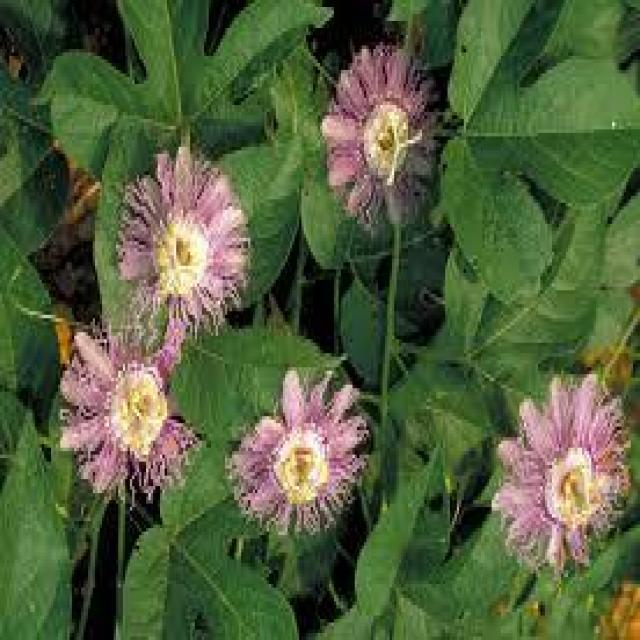organic waste: (110, 138, 266, 352), (54, 310, 214, 512), (215, 366, 382, 540), (490, 372, 622, 579), (316, 35, 440, 248)
